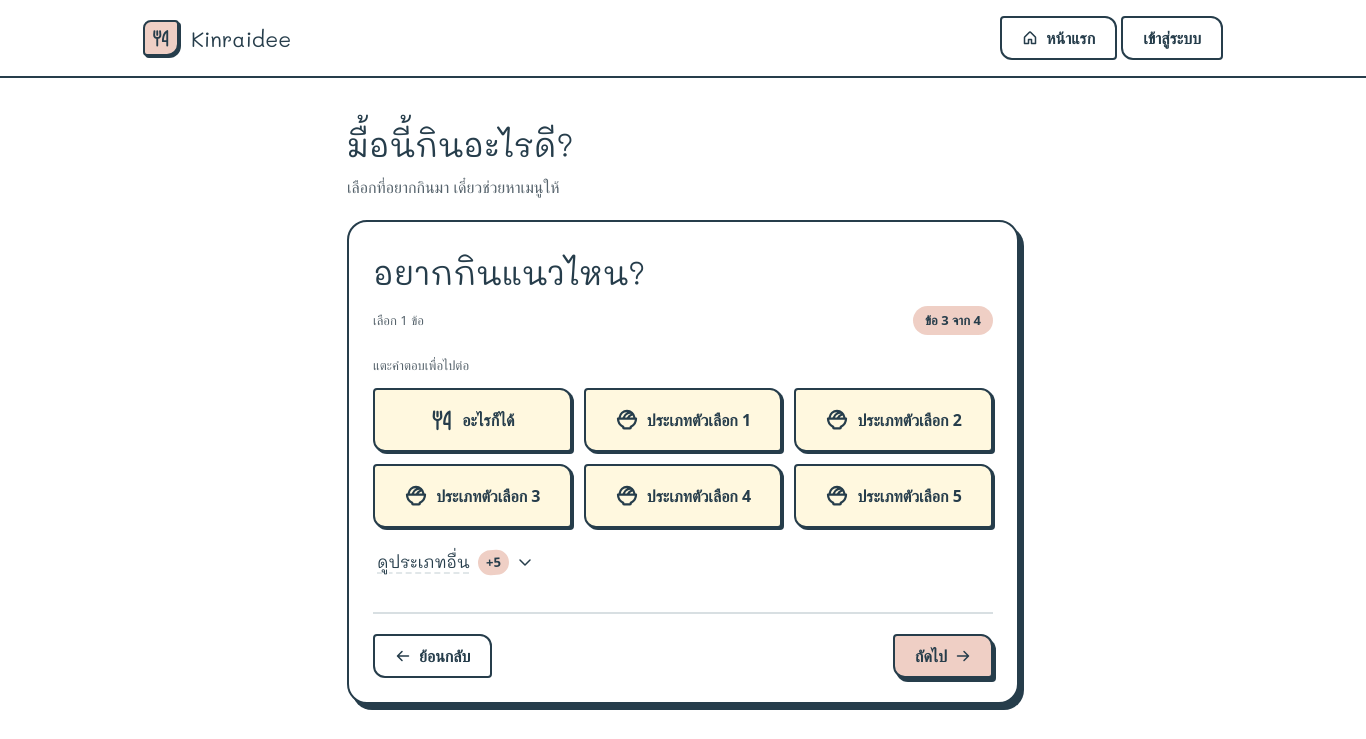
it: Progressive taste and food-type choices › keeps any first and reveals every foodType choice without committing an answer
Expected: the radio button labelled "อะไรก็ได้" is empty, [373,388,572,452]
Click the heading named "ดูประเภทอื่นอีก 5 ตัวเลือก".
click(455, 562)  # box [373,540,536,584]
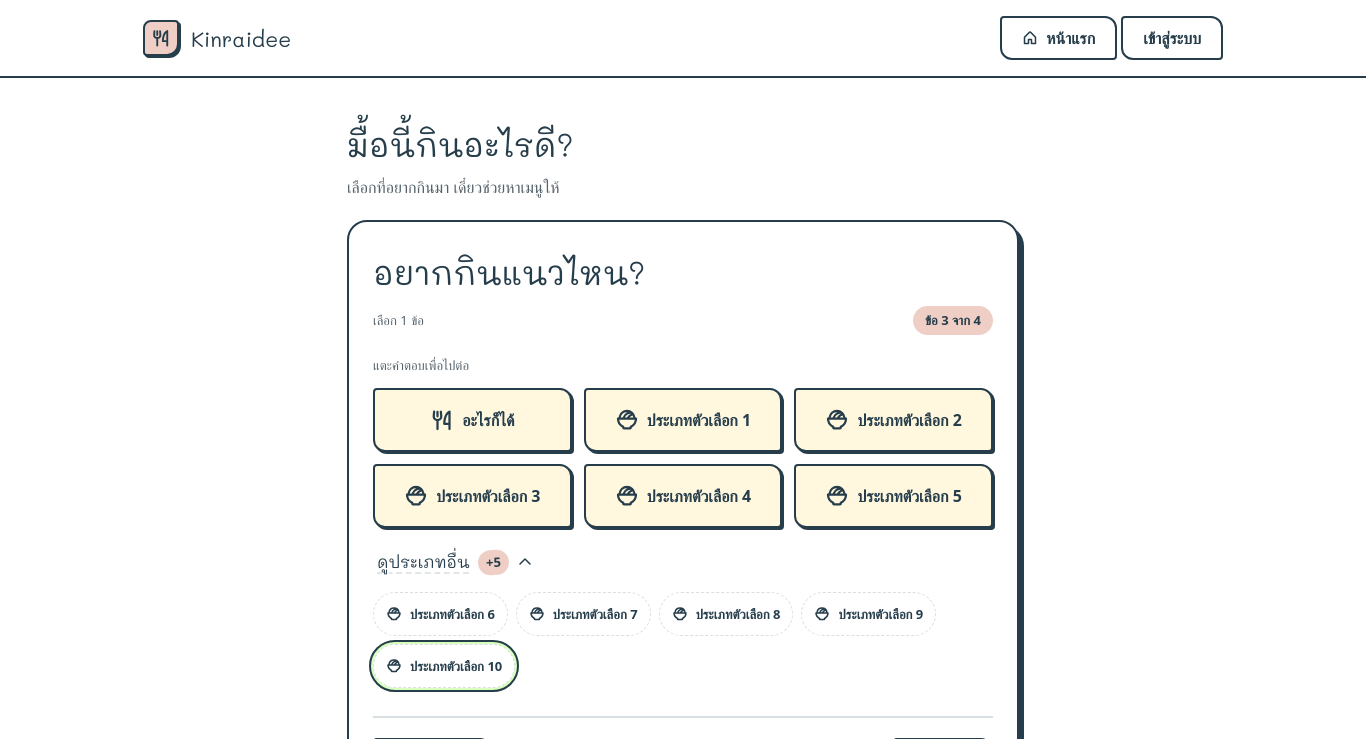
Type keys "[Space]"
(page scrolled)
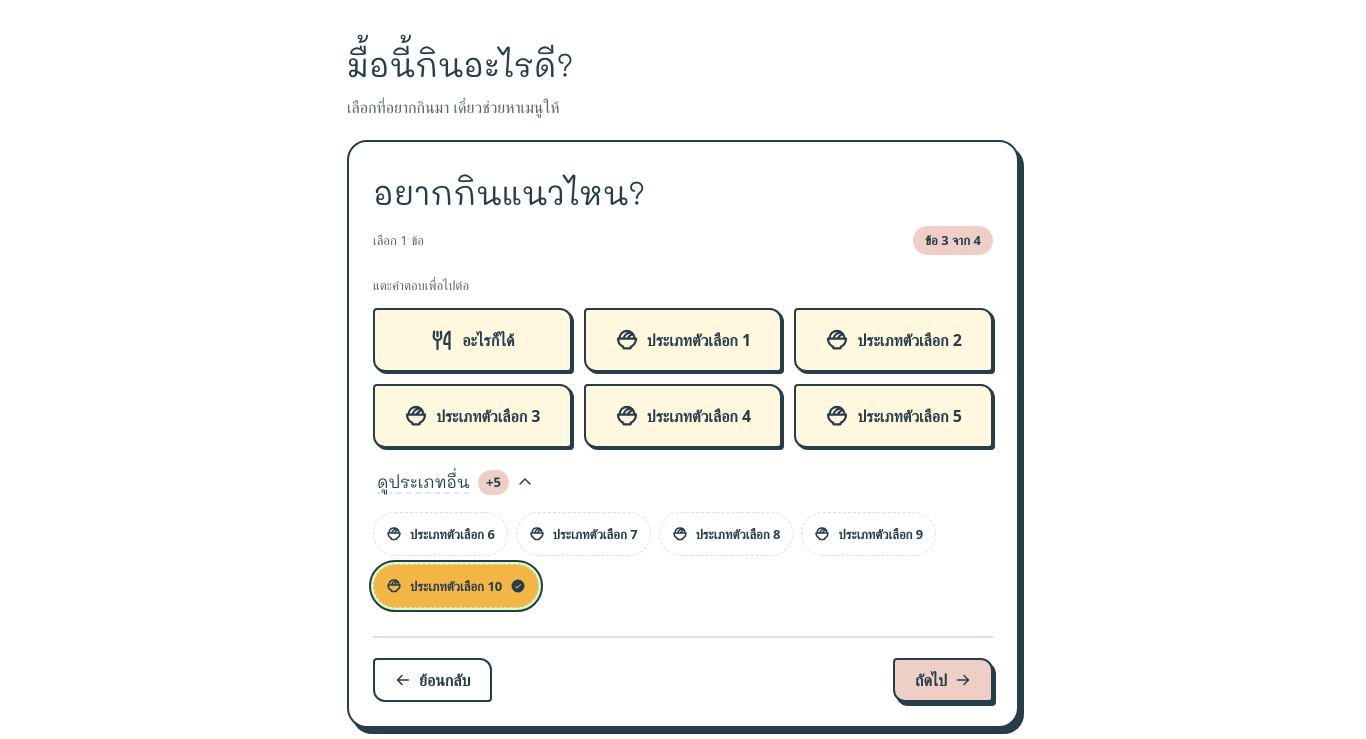
Expected: the heading named "ดูประเภทอื่นอีก 5 ตัวเลือก" is shown, [373,460,536,504]
Click the button "ถัดไป".
click(943, 680)  # box [893,658,993,702]
(page scrolled)
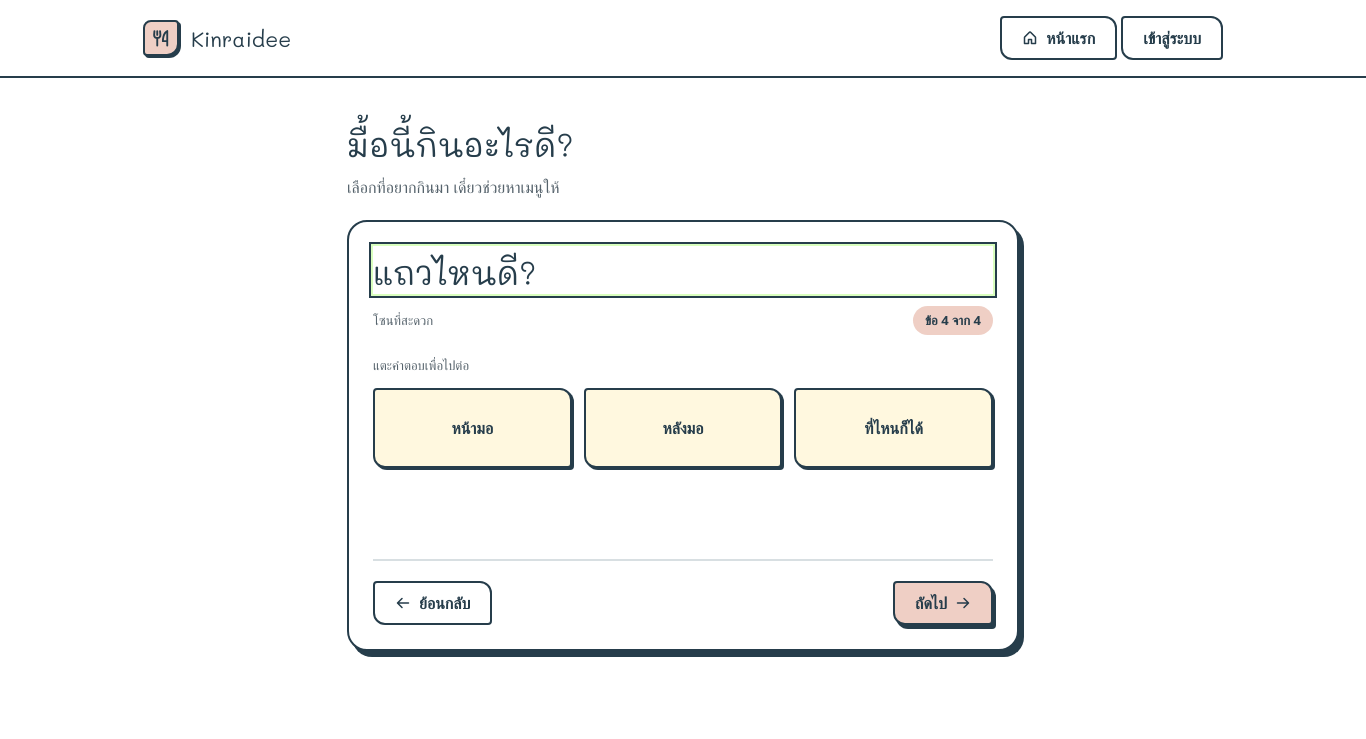
Now the heading "แถวไหนดี?" is shown, box [373,246,993,294]
Click the button "ย้อนกลับ".
click(433, 603)  # box [373,581,492,625]
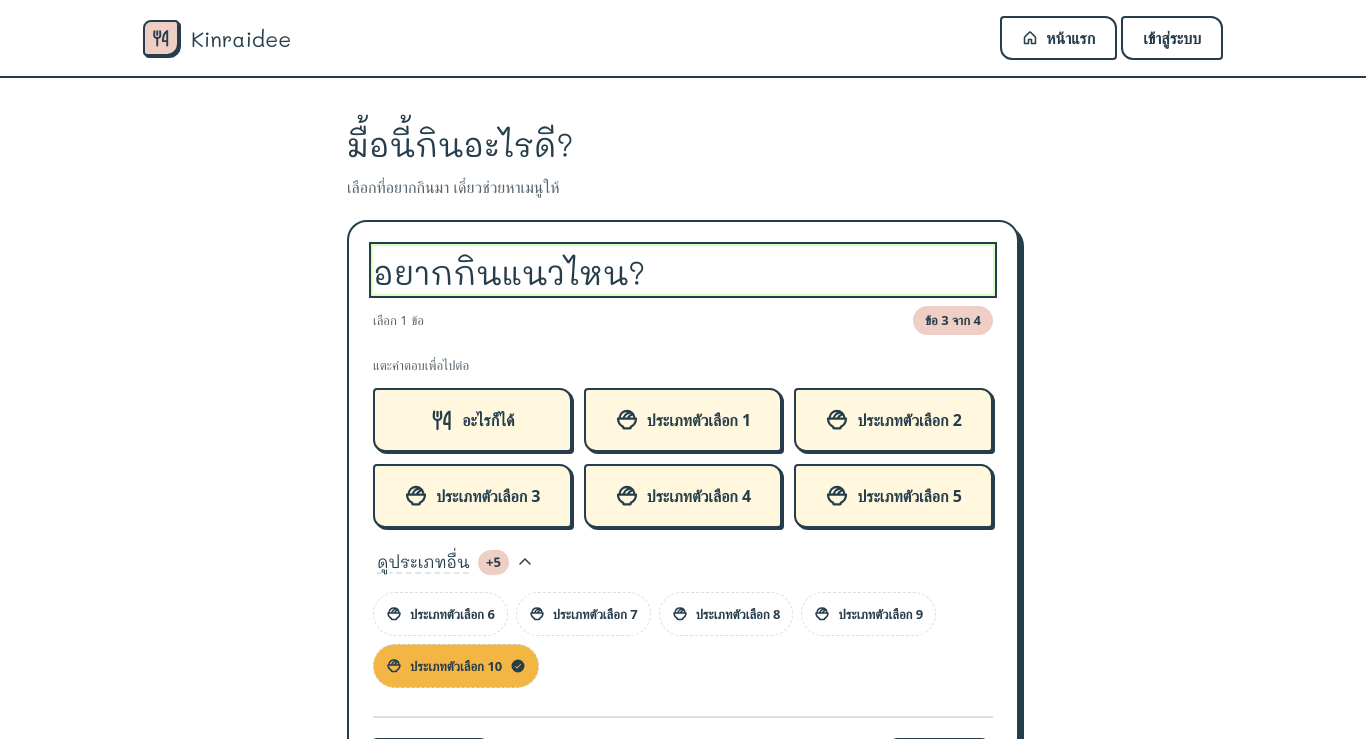
Click the radio button labelled "ประเภทตัวเลือก 10".
click(456, 666)  # box [373,644,539,688]
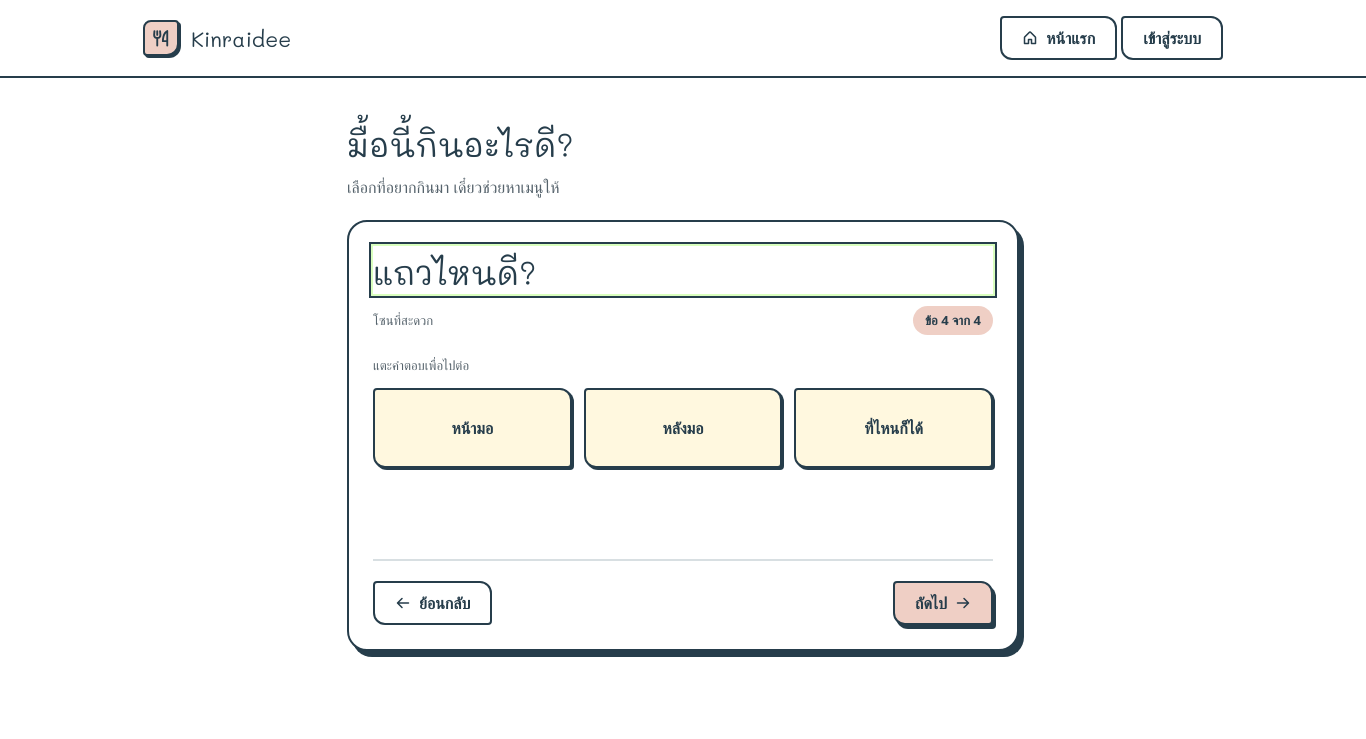
Now the heading "แถวไหนดี?" is shown, box [373,246,993,294]
